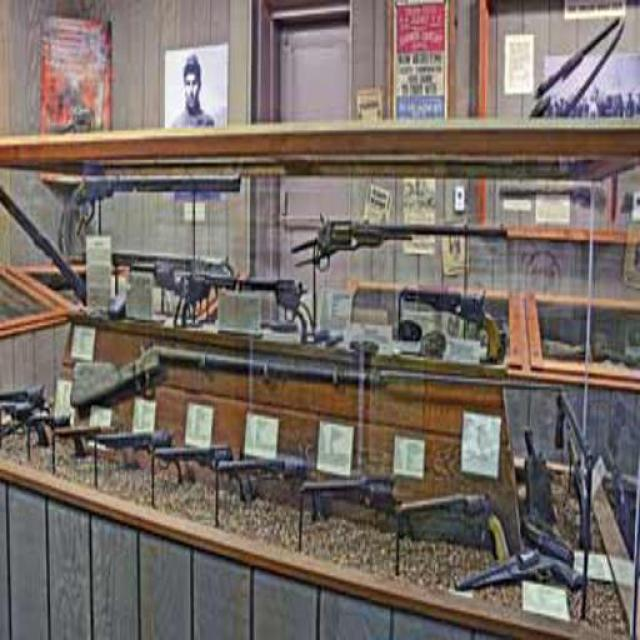pistol: (386, 464, 511, 586), (224, 429, 316, 563), (297, 452, 406, 565), (156, 407, 252, 527), (225, 245, 326, 351), (95, 415, 191, 506), (1, 365, 43, 461)
